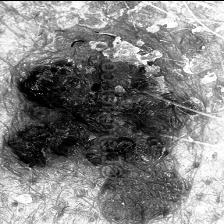Potentially Malignant Skin Tumors: (13, 58, 91, 168), (122, 60, 168, 166)
